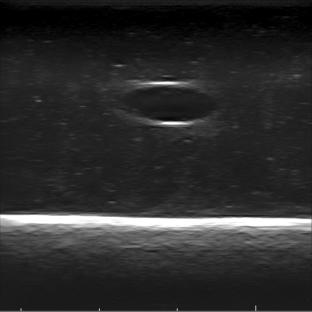vessel: (118, 81, 220, 128)
